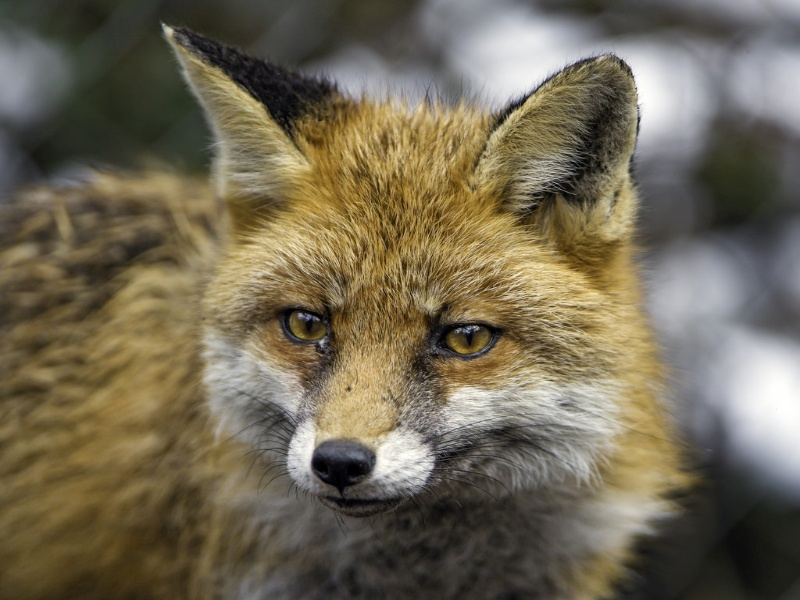fox: (2, 22, 670, 600)
